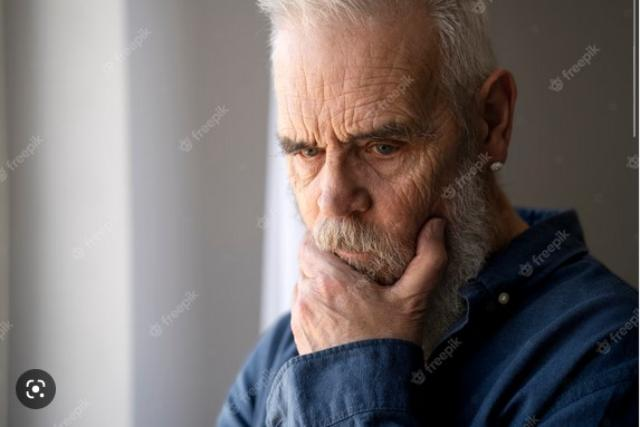forehead: (356, 72, 398, 92), (339, 98, 357, 128), (314, 74, 331, 104), (390, 101, 414, 121), (298, 107, 310, 137)
frown_line: (310, 120, 324, 144), (328, 122, 340, 144)
masseter: (410, 178, 426, 208)
